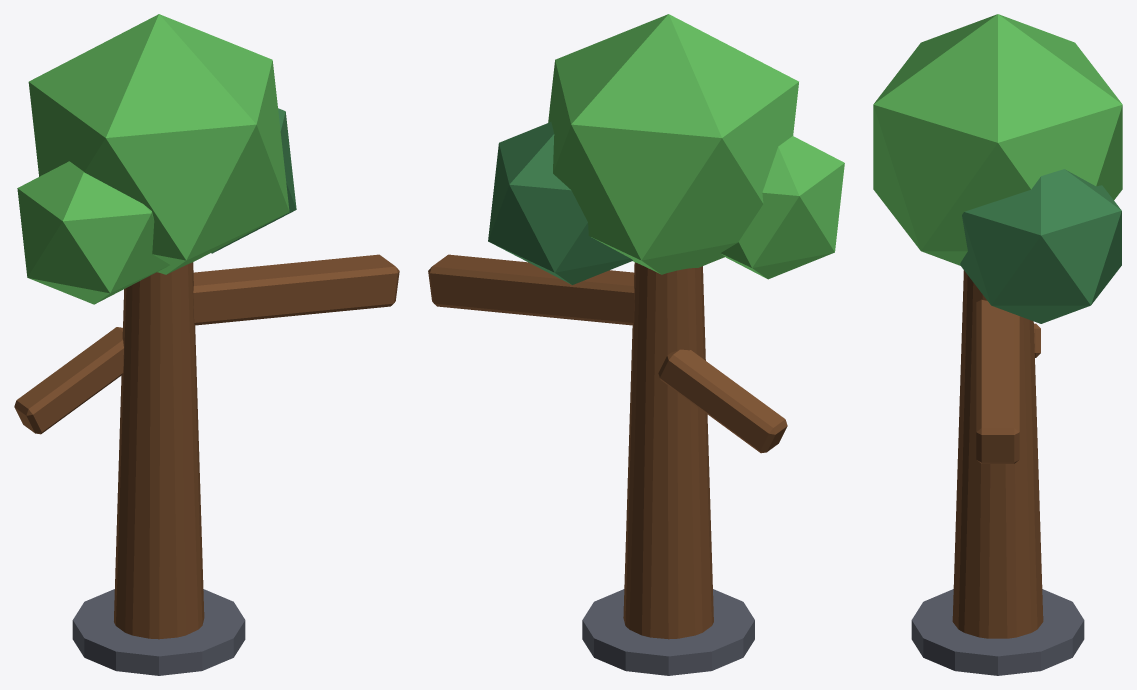
The model's file is CatCafe_Alley_StuckTree.glb.
3 views of the same model, side by side, from view 1: azimuth 30°, elevation 25°; view 2: azimuth 150°, elevation 25°; view 3: azimuth 270°, elevation 25° (orthographic).
Parts seen in each view (by area): view 1: CatCafe_Alley_StuckTree; view 2: CatCafe_Alley_StuckTree; view 3: CatCafe_Alley_StuckTree.
Boxes of the visible parts, x1,y1,x2,y2 form: CatCafe_Alley_StuckTree: (14,14,399,675); CatCafe_Alley_StuckTree: (428,14,844,675); CatCafe_Alley_StuckTree: (873,14,1122,675).
Size of the model in its own units: 5.11 by 8 by 2.89.
Materials: 1 (1 with a texture image).
